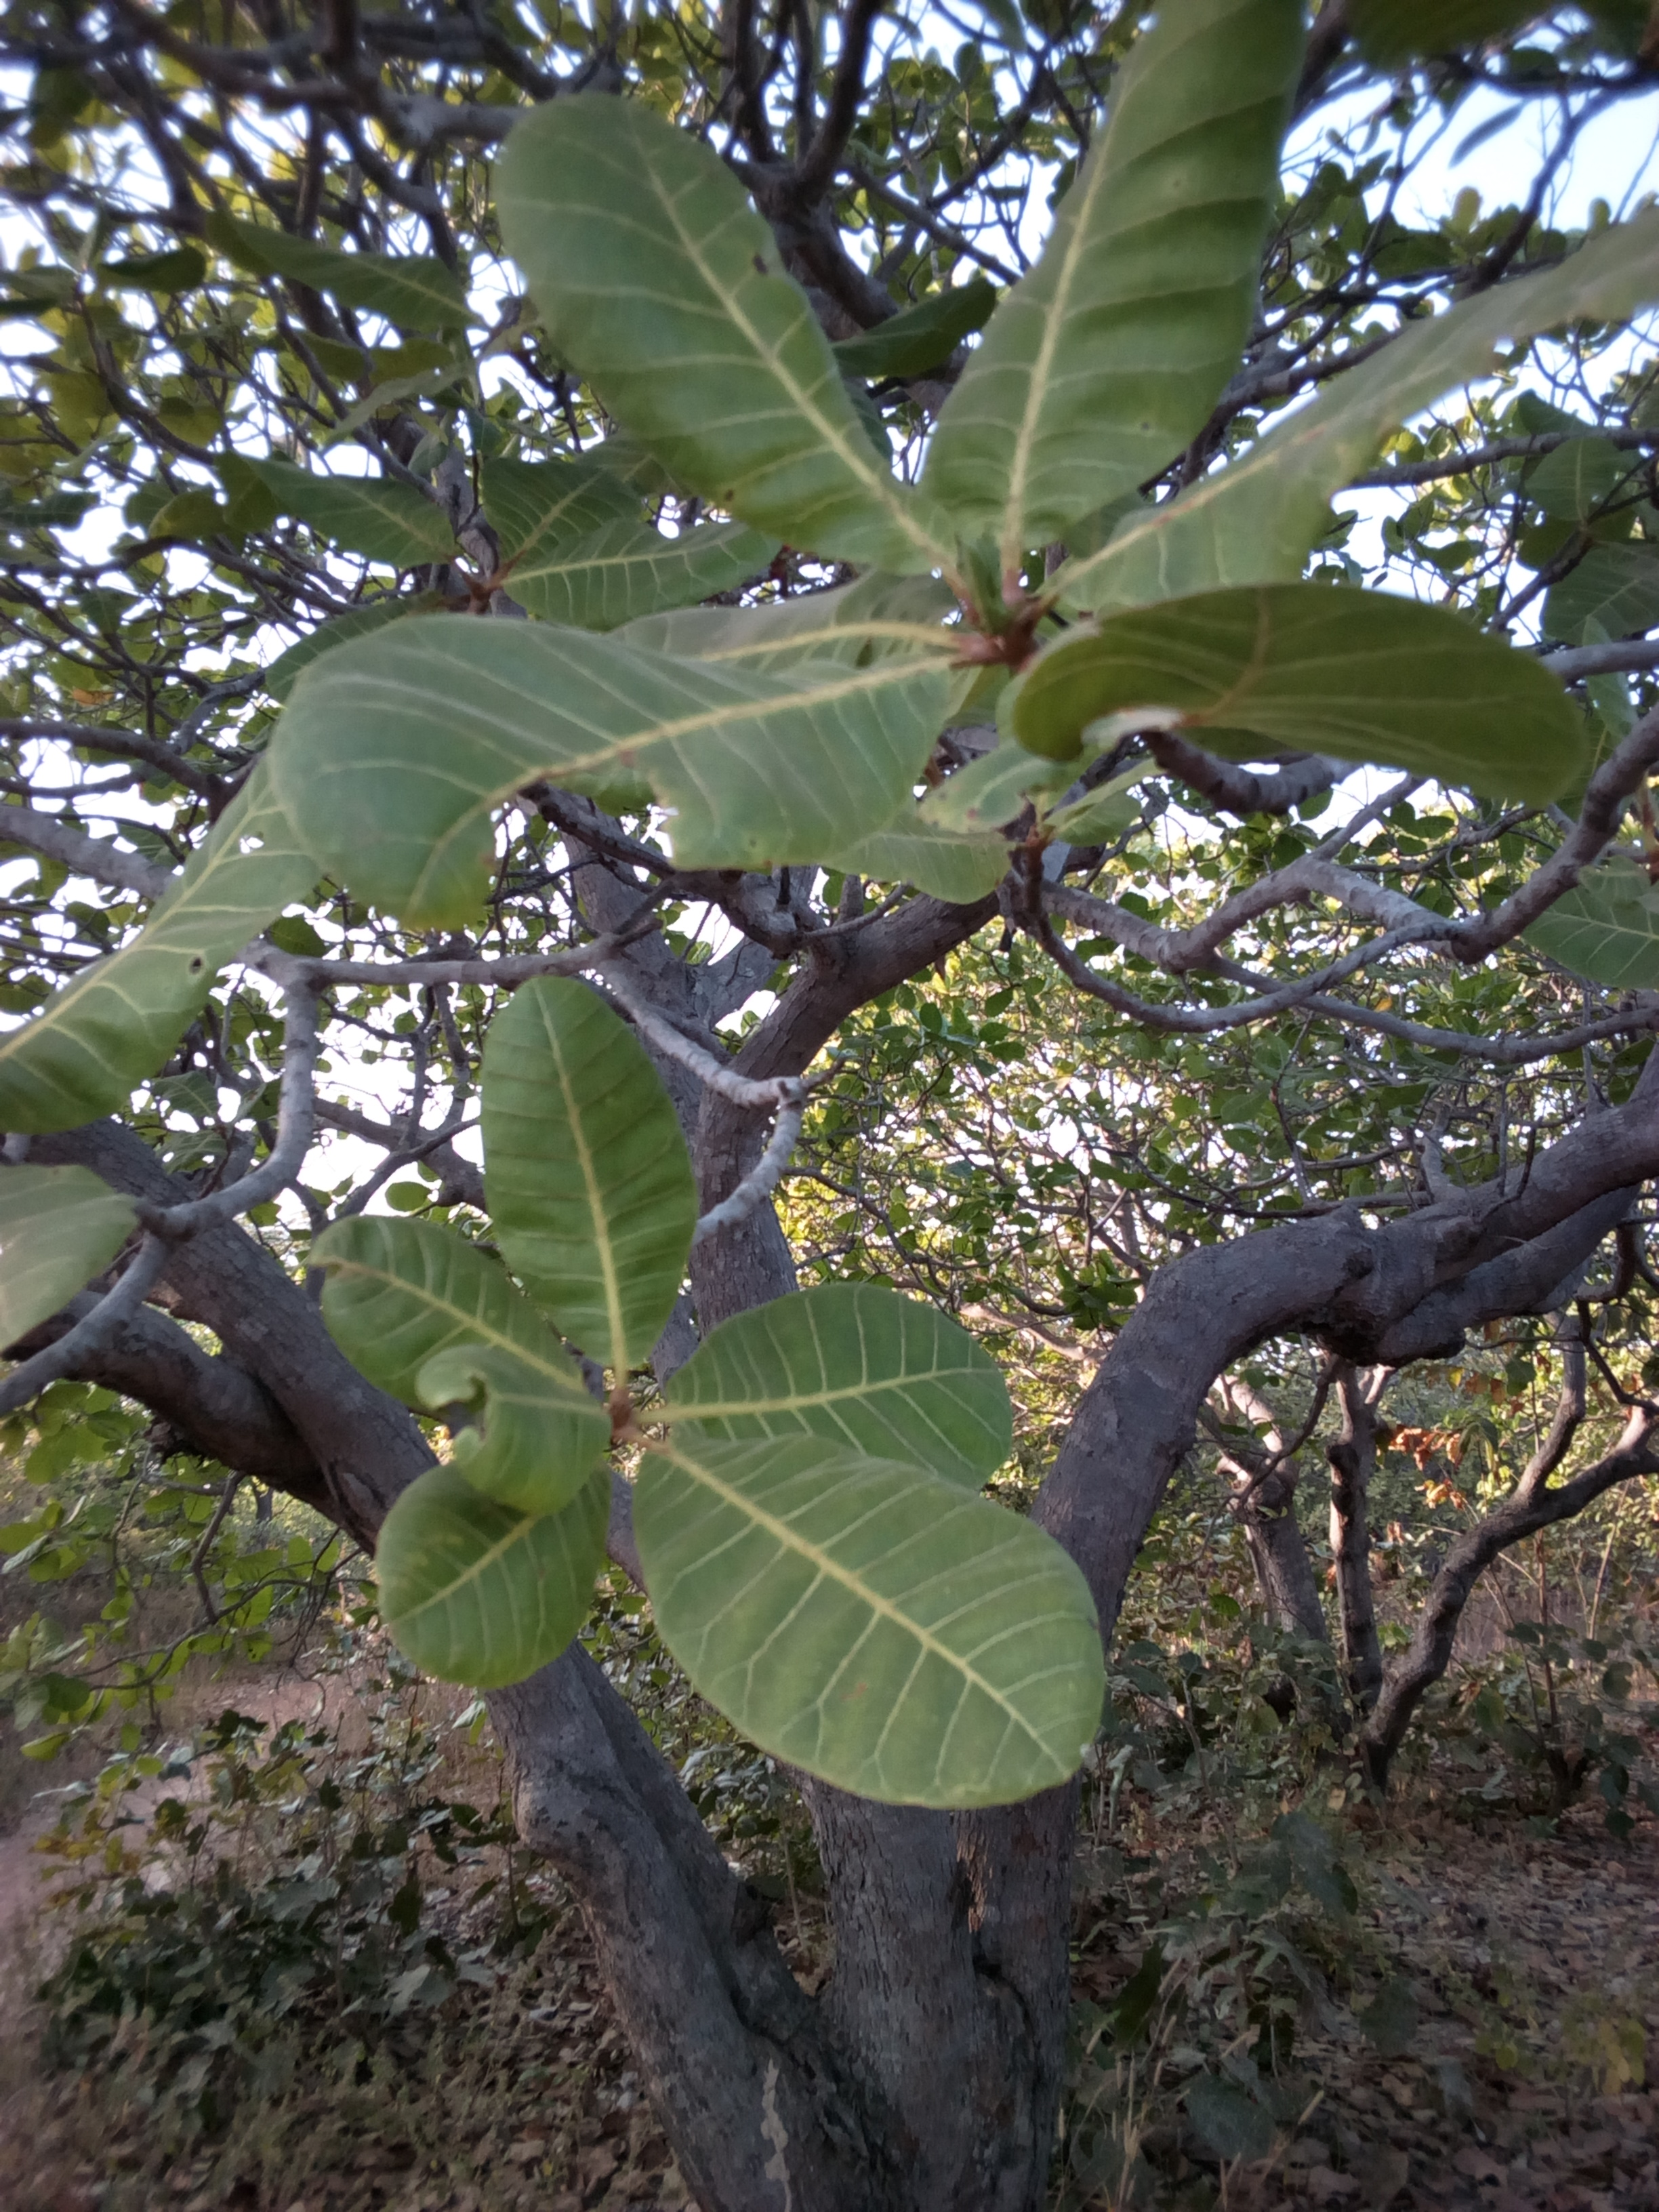Anoplocnemis curvipes: (416, 1350, 619, 1500)
